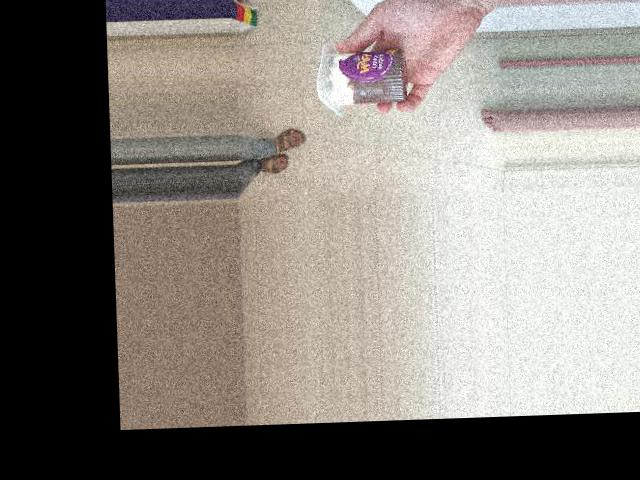milky: (307, 32, 420, 116)
